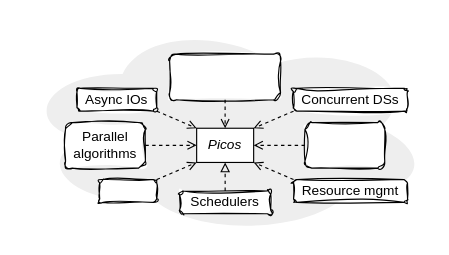
Image size: 449x255. Some labels were removed from this diagram. Here are the shapes that lost their labels. From the top down, the centre of each, then its label:
At (x=224, y=76): "Synchronization primitives".
At (x=344, y=144): "Structuring models".
At (x=128, y=190): "STMs".
